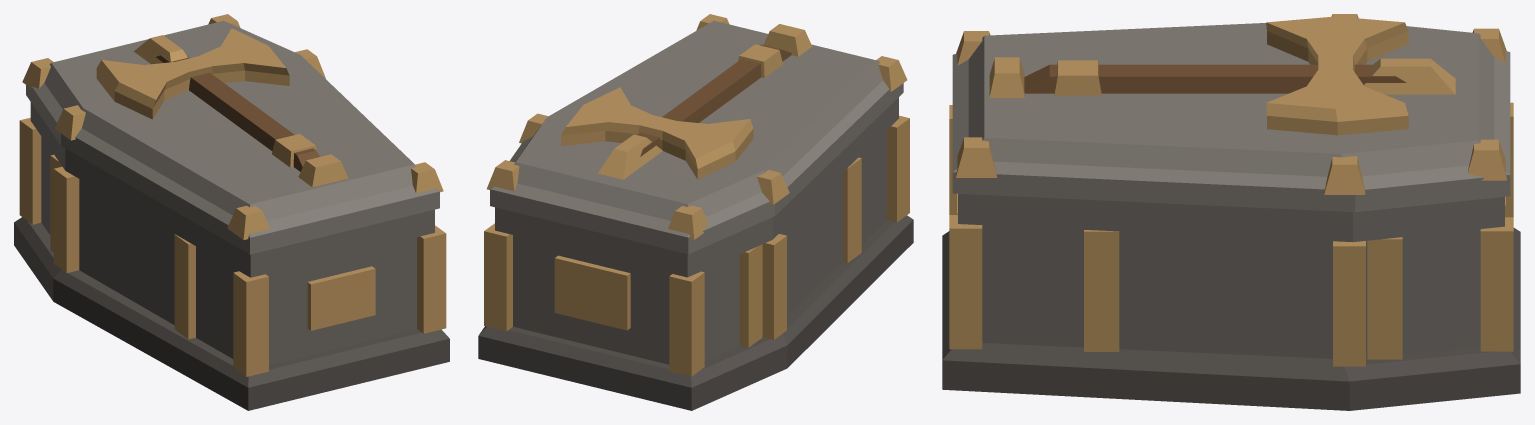
File: coffin.glb
3 views of the same model, side by side, from view 1: azimuth 30°, elevation 25°; view 2: azimuth 150°, elevation 25°; view 3: azimuth 270°, elevation 25° (orthographic). The views are drawn at different scales.
Parts seen in each view (by area): view 1: lid, body, plinth, axe_head, cap_fl, plaque_foot, axe_haft, cap_fr, cap_sl, cap_hl, band_foot, axe_pommel (+7 smaller); view 2: lid, body, plinth, axe_head, plaque_head, cap_hl, axe_haft, cap_hr, cap_sl, band_head, cap_fl, band_foot (+7 smaller); view 3: lid, body, plinth, axe_head, axe_haft, band_foot, band_head, cap_fr, cap_hr, cap_sr, axe_spike, axe_grip (+8 smaller).
Boxes of the visible parts, x1,y1,x2,y2 form: lid: [26, 20, 439, 254]; body: [30, 102, 434, 364]; plinth: [14, 217, 449, 410]; axe_head: [96, 28, 289, 119]; cap_fl: [233, 271, 268, 376]; plaque_foot: [307, 266, 375, 330]; axe_haft: [156, 55, 320, 171]; cap_fr: [417, 225, 446, 333]; cap_sl: [53, 166, 79, 272]; cap_hl: [19, 117, 41, 224]; band_foot: [174, 234, 195, 339]; axe_pommel: [298, 154, 348, 187]; lid: [490, 20, 903, 254]; body: [495, 97, 898, 364]; plinth: [478, 215, 913, 410]; axe_head: [561, 87, 753, 179]; plaque_head: [554, 255, 630, 330]; cap_hl: [669, 271, 704, 376]; axe_haft: [637, 44, 791, 156]; cap_hr: [484, 223, 512, 331]; cap_sl: [762, 234, 786, 339]; band_head: [739, 244, 762, 347]; cap_fl: [887, 115, 909, 222]; band_foot: [843, 157, 861, 262]; lid: [952, 23, 1510, 212]; body: [958, 194, 1504, 358]; plinth: [942, 228, 1520, 410]; axe_head: [1266, 16, 1408, 135]; axe_haft: [1024, 64, 1406, 93]; band_foot: [1084, 230, 1119, 351]; band_head: [1367, 237, 1402, 359]; cap_fr: [949, 215, 982, 349]; cap_hr: [1480, 217, 1513, 351]; cap_sr: [1333, 241, 1365, 366]; axe_spike: [1364, 58, 1455, 94]; axe_grip: [1054, 60, 1101, 95].
Size of what is drawn, in the model's own units: 0.67 by 0.495 by 0.98.
